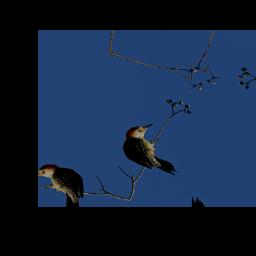Woodpecker: (106, 115, 192, 188)
